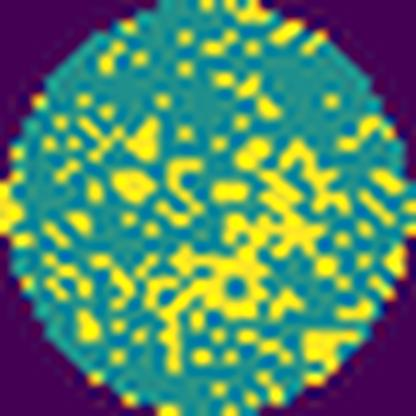Loc: (144, 132, 332, 376), (280, 134, 353, 216), (81, 116, 164, 164), (110, 165, 156, 198)
